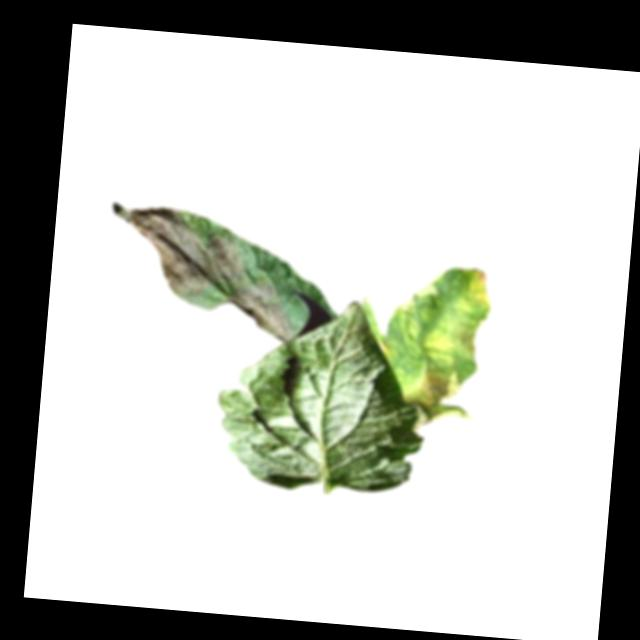Late_blight: (107, 201, 246, 298), (401, 364, 480, 434), (229, 274, 299, 342), (449, 316, 484, 361), (464, 266, 493, 310)
healthy: (208, 290, 436, 502)
